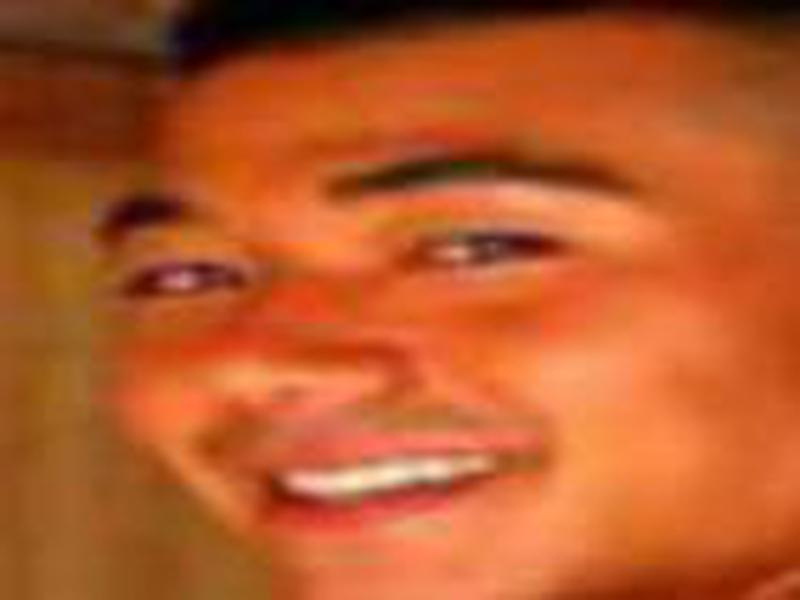without_mask: (106, 78, 776, 593)
